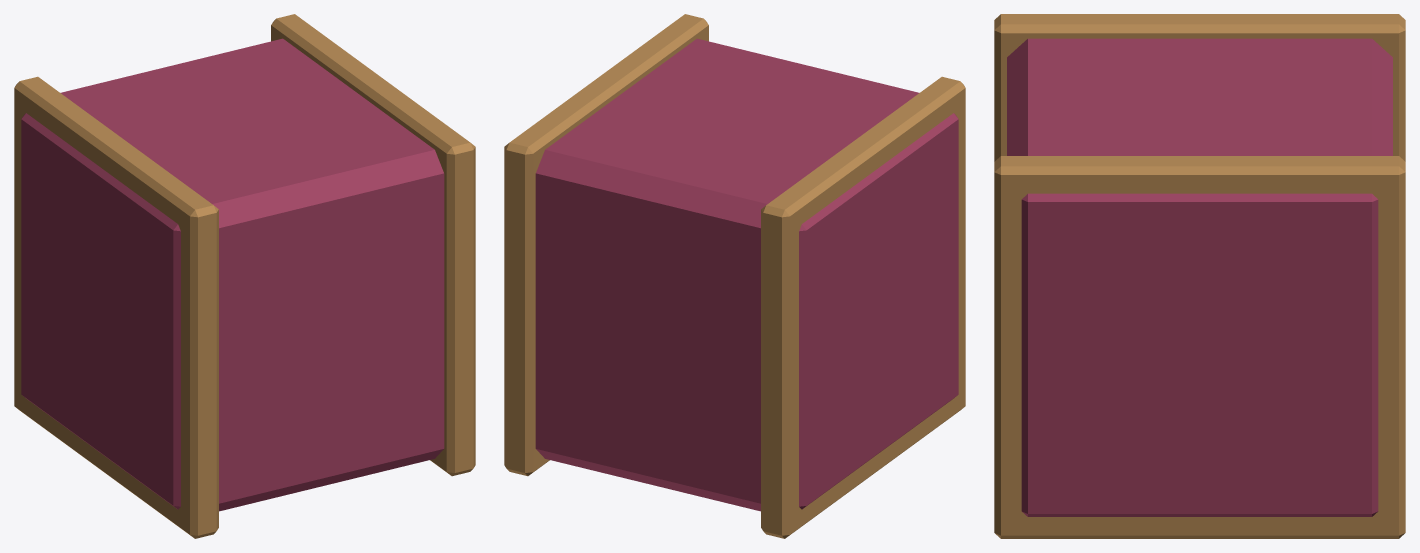
Rendered from crate.fbx.
3 views of the same model, side by side, from view 1: azimuth 30°, elevation 25°; view 2: azimuth 150°, elevation 25°; view 3: azimuth 270°, elevation 25° (orthographic). The views are drawn at different scales.
Parts seen in each view (by area): view 1: wood body, binding, binding.001; view 2: wood body, binding, binding.001; view 3: wood body, binding.001, binding.
Part boxes in pixels (box(x1,y1,x2,y2)): wood body: box(21, 38, 444, 511); binding: box(14, 76, 218, 538); binding.001: box(271, 14, 475, 476); wood body: box(535, 38, 958, 511); binding: box(761, 76, 965, 538); binding.001: box(504, 14, 708, 476); wood body: box(1007, 38, 1392, 516); binding.001: box(994, 156, 1405, 538); binding: box(994, 14, 1405, 161).
Size of the model in its own units: 46 by 49 by 49.
